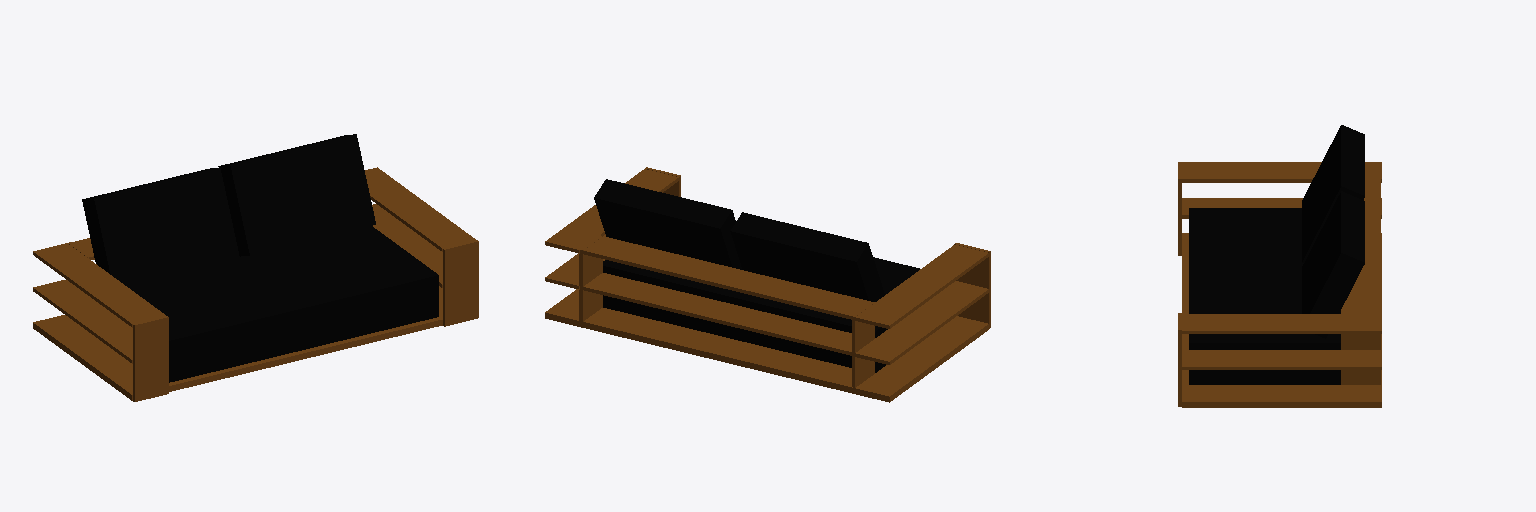
File: sofa.obj
3 views of the same model, side by side, from view 1: azimuth 30°, elevation 25°; view 2: azimuth 150°, elevation 25°; view 3: azimuth 270°, elevation 25° (orthographic).
Parts seen in each view (by area): view 1: Cube.002_Cube.013; view 2: Cube.002_Cube.013; view 3: Cube.002_Cube.013.
Boxes of the visible parts, x1=… form: Cube.002_Cube.013: x1=33, y1=134, x2=478, y2=401; Cube.002_Cube.013: x1=545, y1=167, x2=990, y2=402; Cube.002_Cube.013: x1=1178, y1=125, x2=1381, y2=407.
Bounding box in the file's own units: 6 × 2.24 × 3.06.